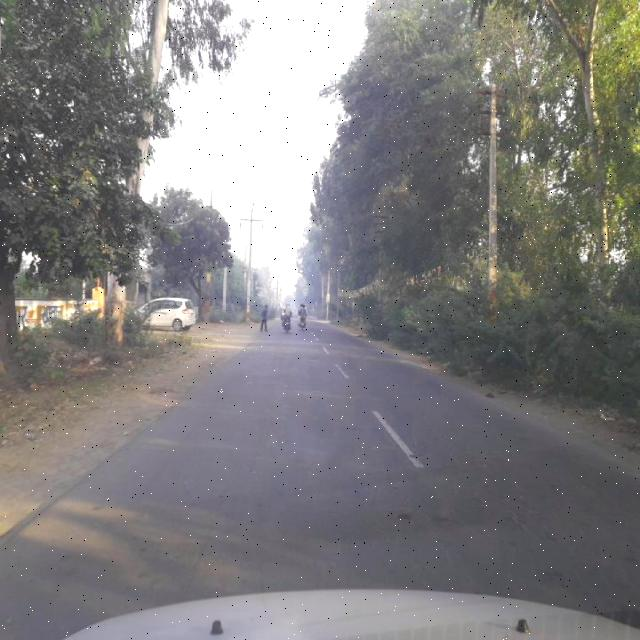D44: (367, 408, 429, 471)
